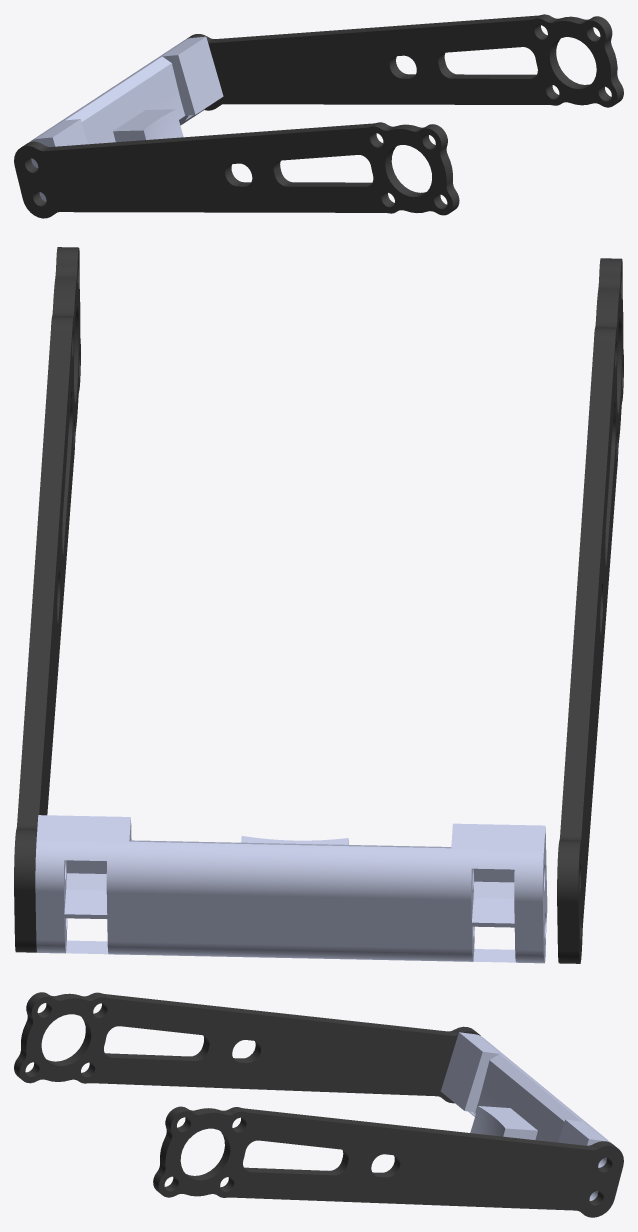
The picture shows the model from 3 angles, top to bottom: view 1: azimuth 30°, elevation 25°; view 2: azimuth 150°, elevation 25°; view 3: azimuth 270°, elevation 25°; orthographic projection. The views are drawn at different scales.
Visible parts, largest first — view 1: hood; view 2: hood; view 3: hood.
Part boxes in pixels (box(x1,y1,x2,y2)): hood: box(14, 14, 623, 218); hood: box(14, 247, 623, 963); hood: box(14, 992, 623, 1217).
Size of the model in its own units: 0.1302 by 0.0546 by 0.1526.
